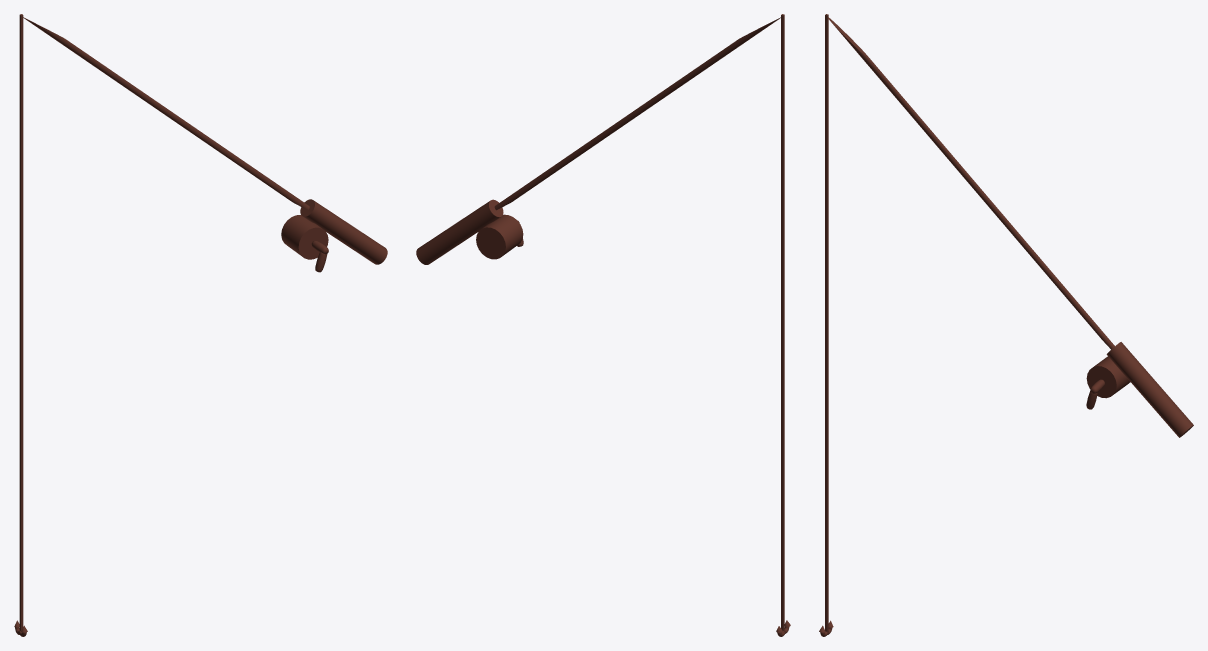
Rendered from fishingPoleAsset.fbx.
3 renders of one model, left to right at view 1: azimuth 30°, elevation 25°; view 2: azimuth 150°, elevation 25°; view 3: azimuth 330°, elevation 25°, orthographic.
Parts seen in each view (by area): view 1: pasted__pCone2; view 2: pasted__pCone2; view 3: pasted__pCone2.
Part boxes in pixels (x1,y1,x2,y2): pasted__pCone2: [14, 14, 387, 636]; pasted__pCone2: [416, 14, 790, 636]; pasted__pCone2: [819, 14, 1193, 636].
Bounding box in the file's own units: 7.67 × 12.36 × 1.02.
